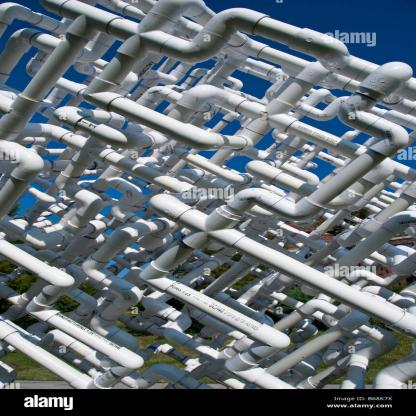PVC: (3, 0, 416, 390)
